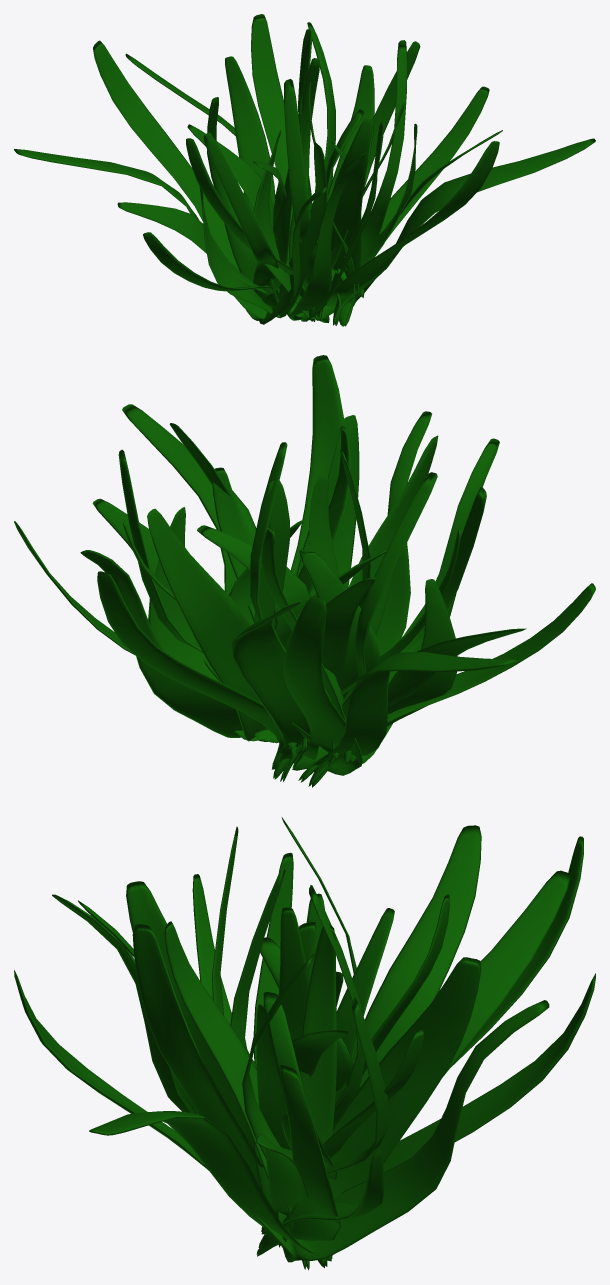
The model's file is Grass2.fbx.
3 renders of one model, top to bottom at view 1: azimuth 30°, elevation 25°; view 2: azimuth 150°, elevation 25°; view 3: azimuth 270°, elevation 25°, orthographic. The views are drawn at different scales.
Parts seen in each view (by area): view 1: Grass; view 2: Grass; view 3: Grass.
Boxes of the visible parts, x1,y1,x2,y2 form: Grass: [14, 14, 595, 326]; Grass: [14, 355, 595, 787]; Grass: [14, 817, 595, 1270].
Size of the model in its own units: 220 by 126 by 176.
